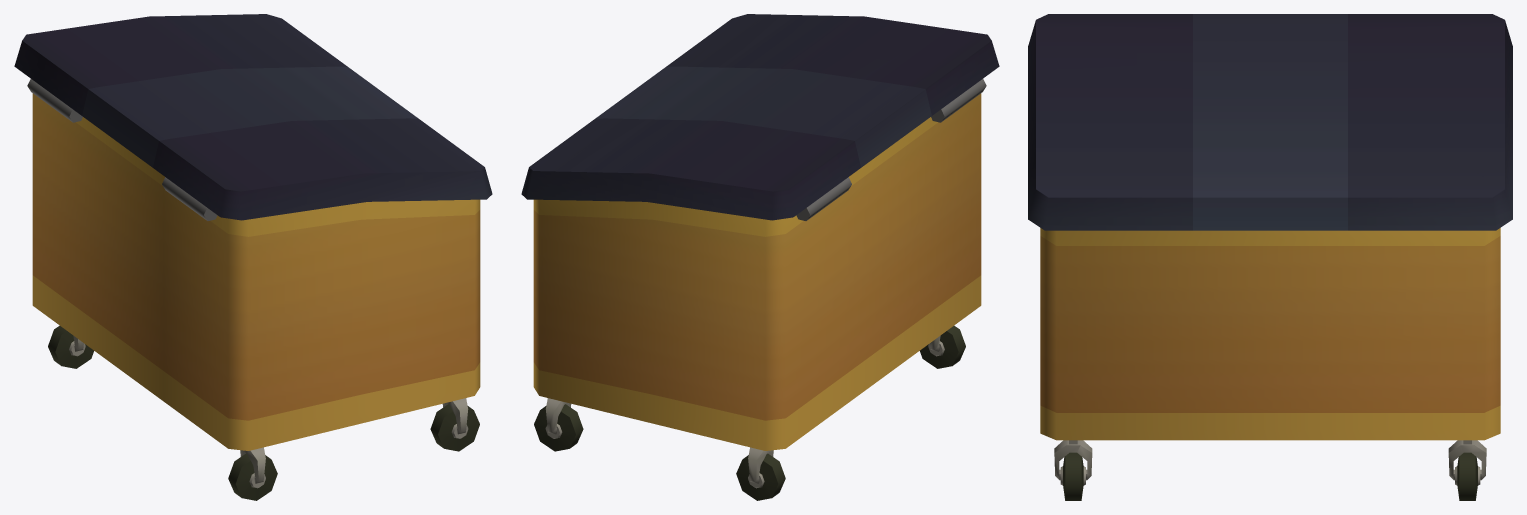
Rendered from BinC_Y.fbx.
The picture shows the model from 3 angles, left to right: view 1: azimuth 30°, elevation 25°; view 2: azimuth 150°, elevation 25°; view 3: azimuth 270°, elevation 25°; orthographic projection. The views are drawn at different scales.
Parts seen in each view (by area): view 1: BinY, BinC_Y; view 2: BinY, BinC_Y; view 3: BinC_Y, BinY.
Boxes of the visible parts, x1,y1,x2,y2 form: BinY: (32,93,480,500); BinC_Y: (14,14,492,220); BinY: (533,93,981,500); BinC_Y: (521,14,999,220); BinC_Y: (1028,14,1512,230); BinY: (1040,228,1500,500).
Size of the model in its own units: 96.14 by 110 by 135.
